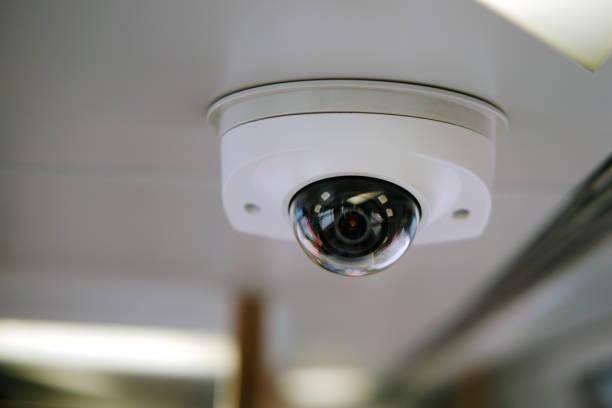360-Cam: (218, 86, 558, 326)
